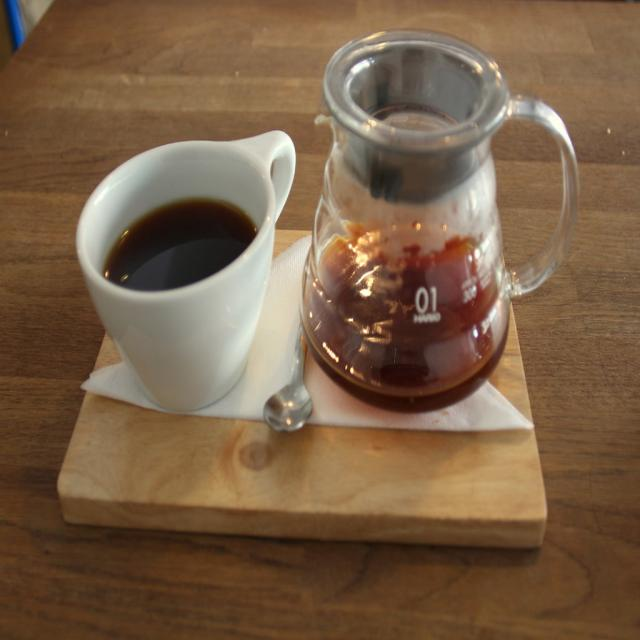Coffee: (302, 218, 512, 417), (106, 200, 255, 292)
Tea: (104, 198, 255, 288)
